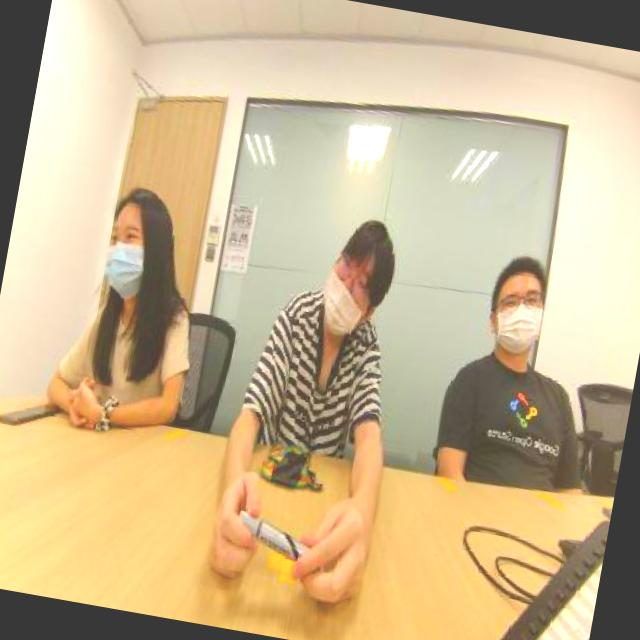Person: (218, 143, 446, 472), (36, 154, 230, 438), (413, 232, 598, 520)
